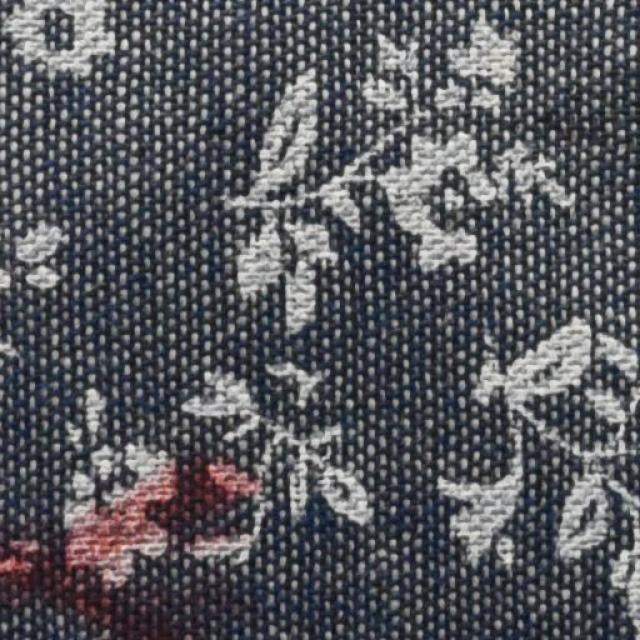Stain: (0, 452, 242, 635)
